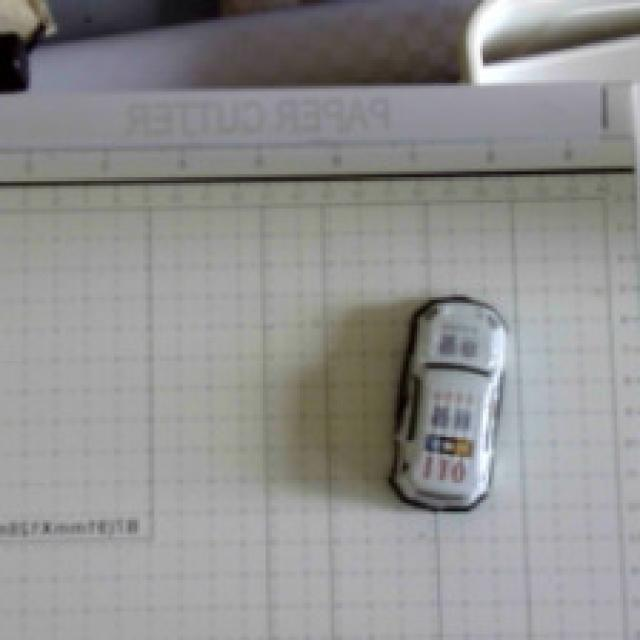Grey Car: (323, 261, 592, 576)
